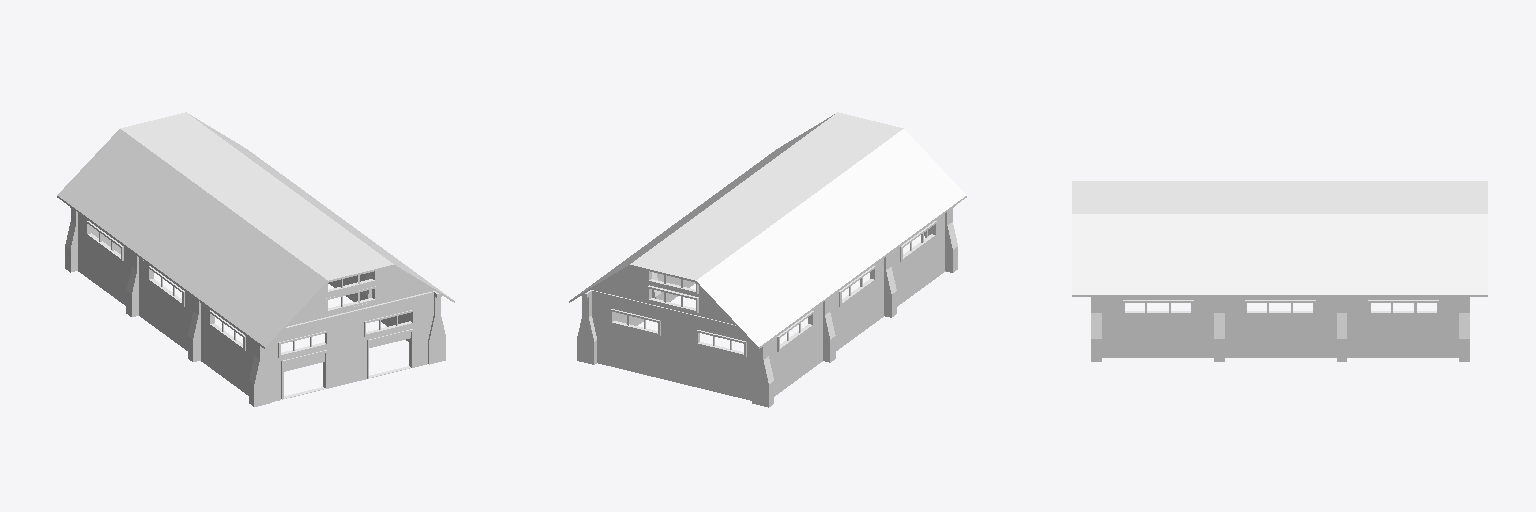
The model's file is ind6_hall2_lod.obj.
3 views of the same model, side by side, from view 1: azimuth 30°, elevation 25°; view 2: azimuth 150°, elevation 25°; view 3: azimuth 270°, elevation 25° (orthographic).
Visible parts, largest first — view 1: Mesh; view 2: Mesh; view 3: Mesh.
Part boxes in pixels (left/top/right/bottom): Mesh: left=57, top=112, right=454, bottom=406; Mesh: left=569, top=112, right=966, bottom=407; Mesh: left=1072, top=181, right=1487, bottom=361.
Size of the model in its own units: 23.15 by 13.66 by 43.5.